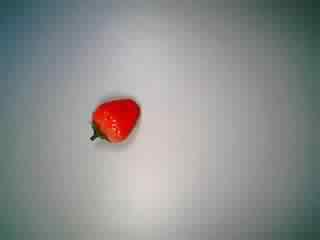strawberry: (80, 88, 148, 152)
